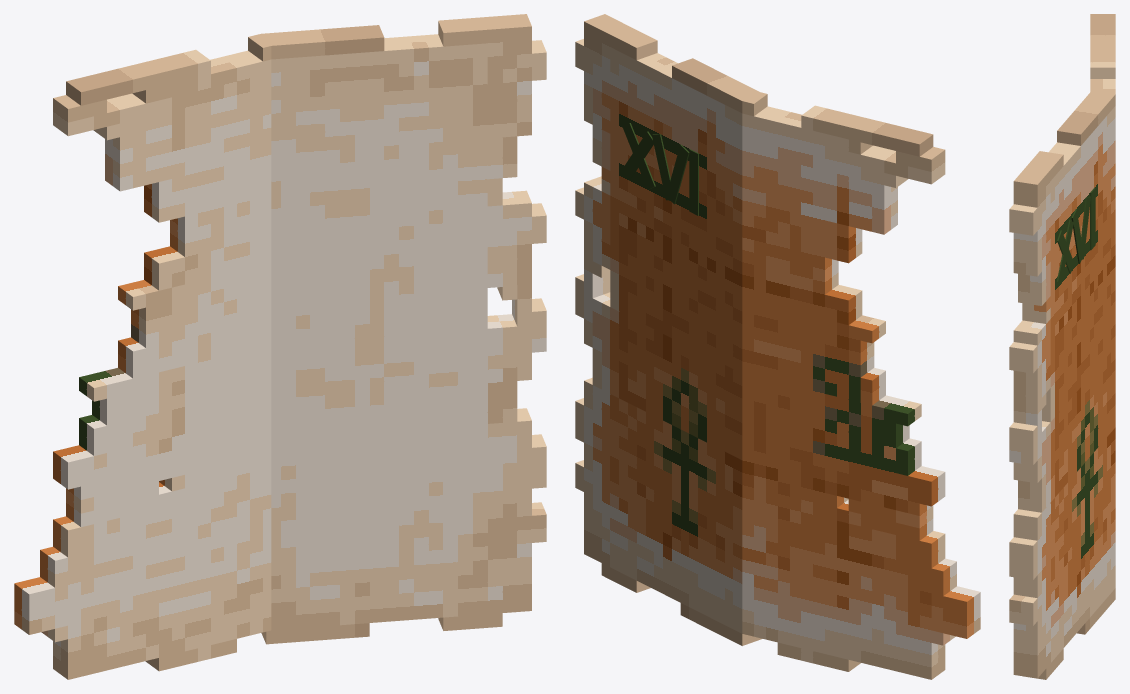
The model's file is lost_page_06P_XVI.gltf.
3 views of the same model, side by side, from view 1: azimuth 30°, elevation 25°; view 2: azimuth 150°, elevation 25°; view 3: azimuth 270°, elevation 25° (orthographic). The views are drawn at different scales.
Parts seen in each view (by area): view 1: MapRight$$(2)-Local, MapCenter$$(2)-Local; view 2: MapCenter$$(2)-Local, MapRight$$(2)-Local, V01-Local, V02$$(1)-Local, I-Local, V01$$(1)-Local; view 3: MapRight$$(2)-Local, MapCenter$$(2)-Local, I-Local, V01$$(1)-Local, V01-Local, V02$$(1)-Local, V02-Local.
Part boxes in pixels (x1,y1,x2,y2): MapRight$$(2)-Local: [261, 14, 546, 644]; MapCenter$$(2)-Local: [14, 34, 271, 679]; MapCenter$$(2)-Local: [742, 92, 980, 679]; MapRight$$(2)-Local: [575, 14, 762, 645]; V01-Local: [622, 123, 655, 189]; V02$$(1)-Local: [666, 144, 689, 204]; I-Local: [689, 149, 698, 215]; V01$$(1)-Local: [651, 134, 673, 200]; MapRight$$(2)-Local: [1009, 90, 1115, 679]; MapCenter$$(2)-Local: [1090, 14, 1115, 94]; I-Local: [1090, 187, 1095, 250]; V01$$(1)-Local: [1071, 209, 1083, 263]; V01-Local: [1057, 230, 1074, 273]; V02$$(1)-Local: [1080, 196, 1090, 259]; V02-Local: [1057, 220, 1073, 283].
Size of the model in its own units: 36.85 by 44 by 8.38.
7 materials, 7 textured.
